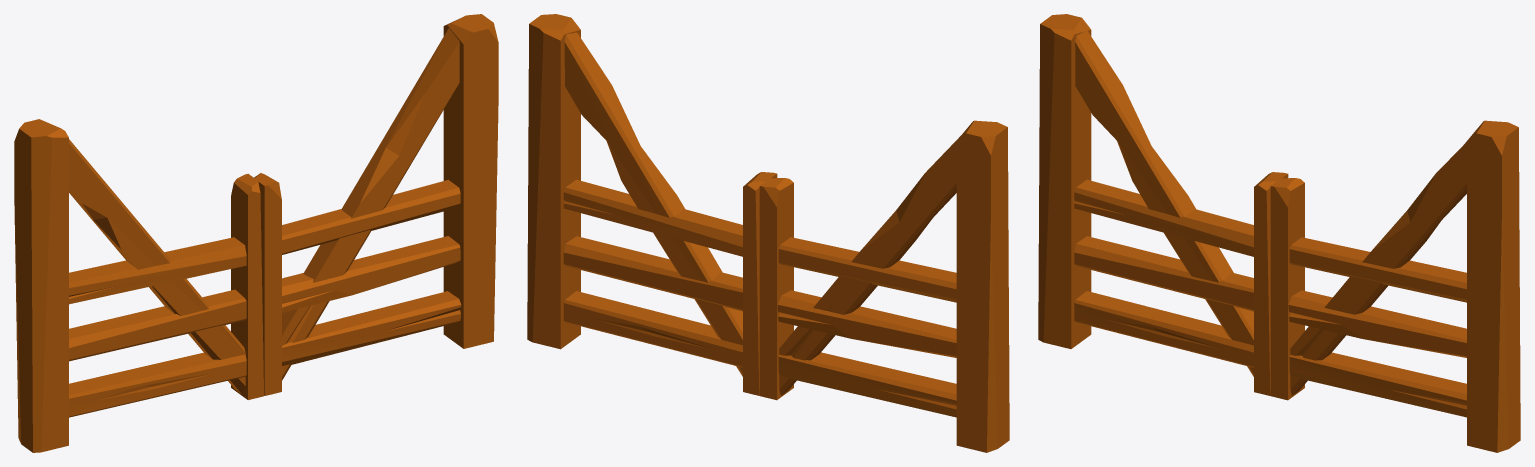
File: Fence_4.fbx
3 views of the same model, side by side, from view 1: azimuth 30°, elevation 25°; view 2: azimuth 150°, elevation 25°; view 3: azimuth 330°, elevation 25° (orthographic).
Visible parts, largest first — view 1: Fence_4; view 2: Fence_4; view 3: Fence_4.
Part boxes in pixels (left/top/right/bottom): Fence_4: left=14, top=14, right=498, bottom=452; Fence_4: left=527, top=14, right=1009, bottom=452; Fence_4: left=1038, top=14, right=1520, bottom=452.
Bounding box in the file's own units: 63.5 × 41.05 × 4.85.
